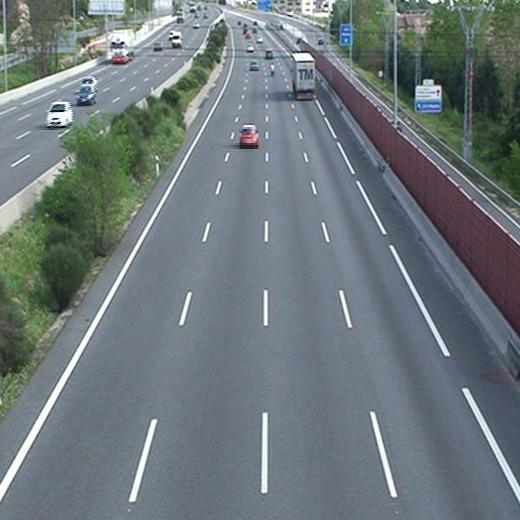car: (239, 124, 260, 148), (248, 58, 259, 70), (264, 47, 272, 60)
motorcycle: (268, 61, 276, 75)
truck: (288, 53, 313, 100)
